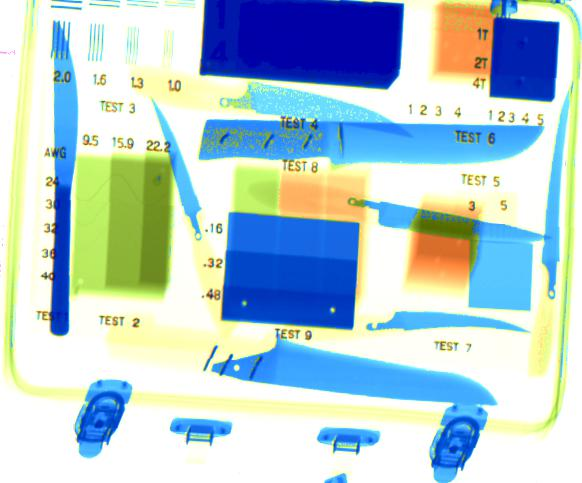KnifeCustom: (200, 329, 498, 407), (133, 67, 414, 138), (196, 118, 544, 166), (149, 96, 220, 290), (342, 190, 552, 244), (51, 18, 79, 335), (540, 82, 574, 304), (357, 311, 531, 334)
